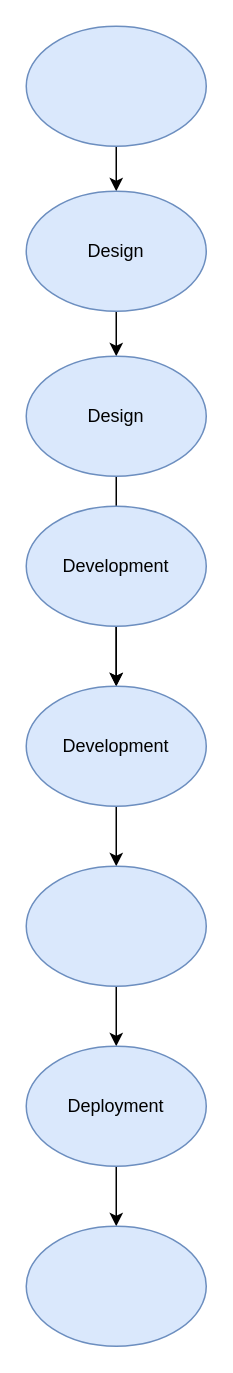
The diagram is 233 pixels wide and 1373 high, and some of its shapes have lost their labels. The shapes that lost their labels are listed below. From the top down, each one's box as (x1, y1, x2, y2) in pixels, then its label:
(25, 25, 206, 146): Requirement analysis
(25, 865, 206, 986): Testing
(25, 1225, 206, 1346): lifecycle
